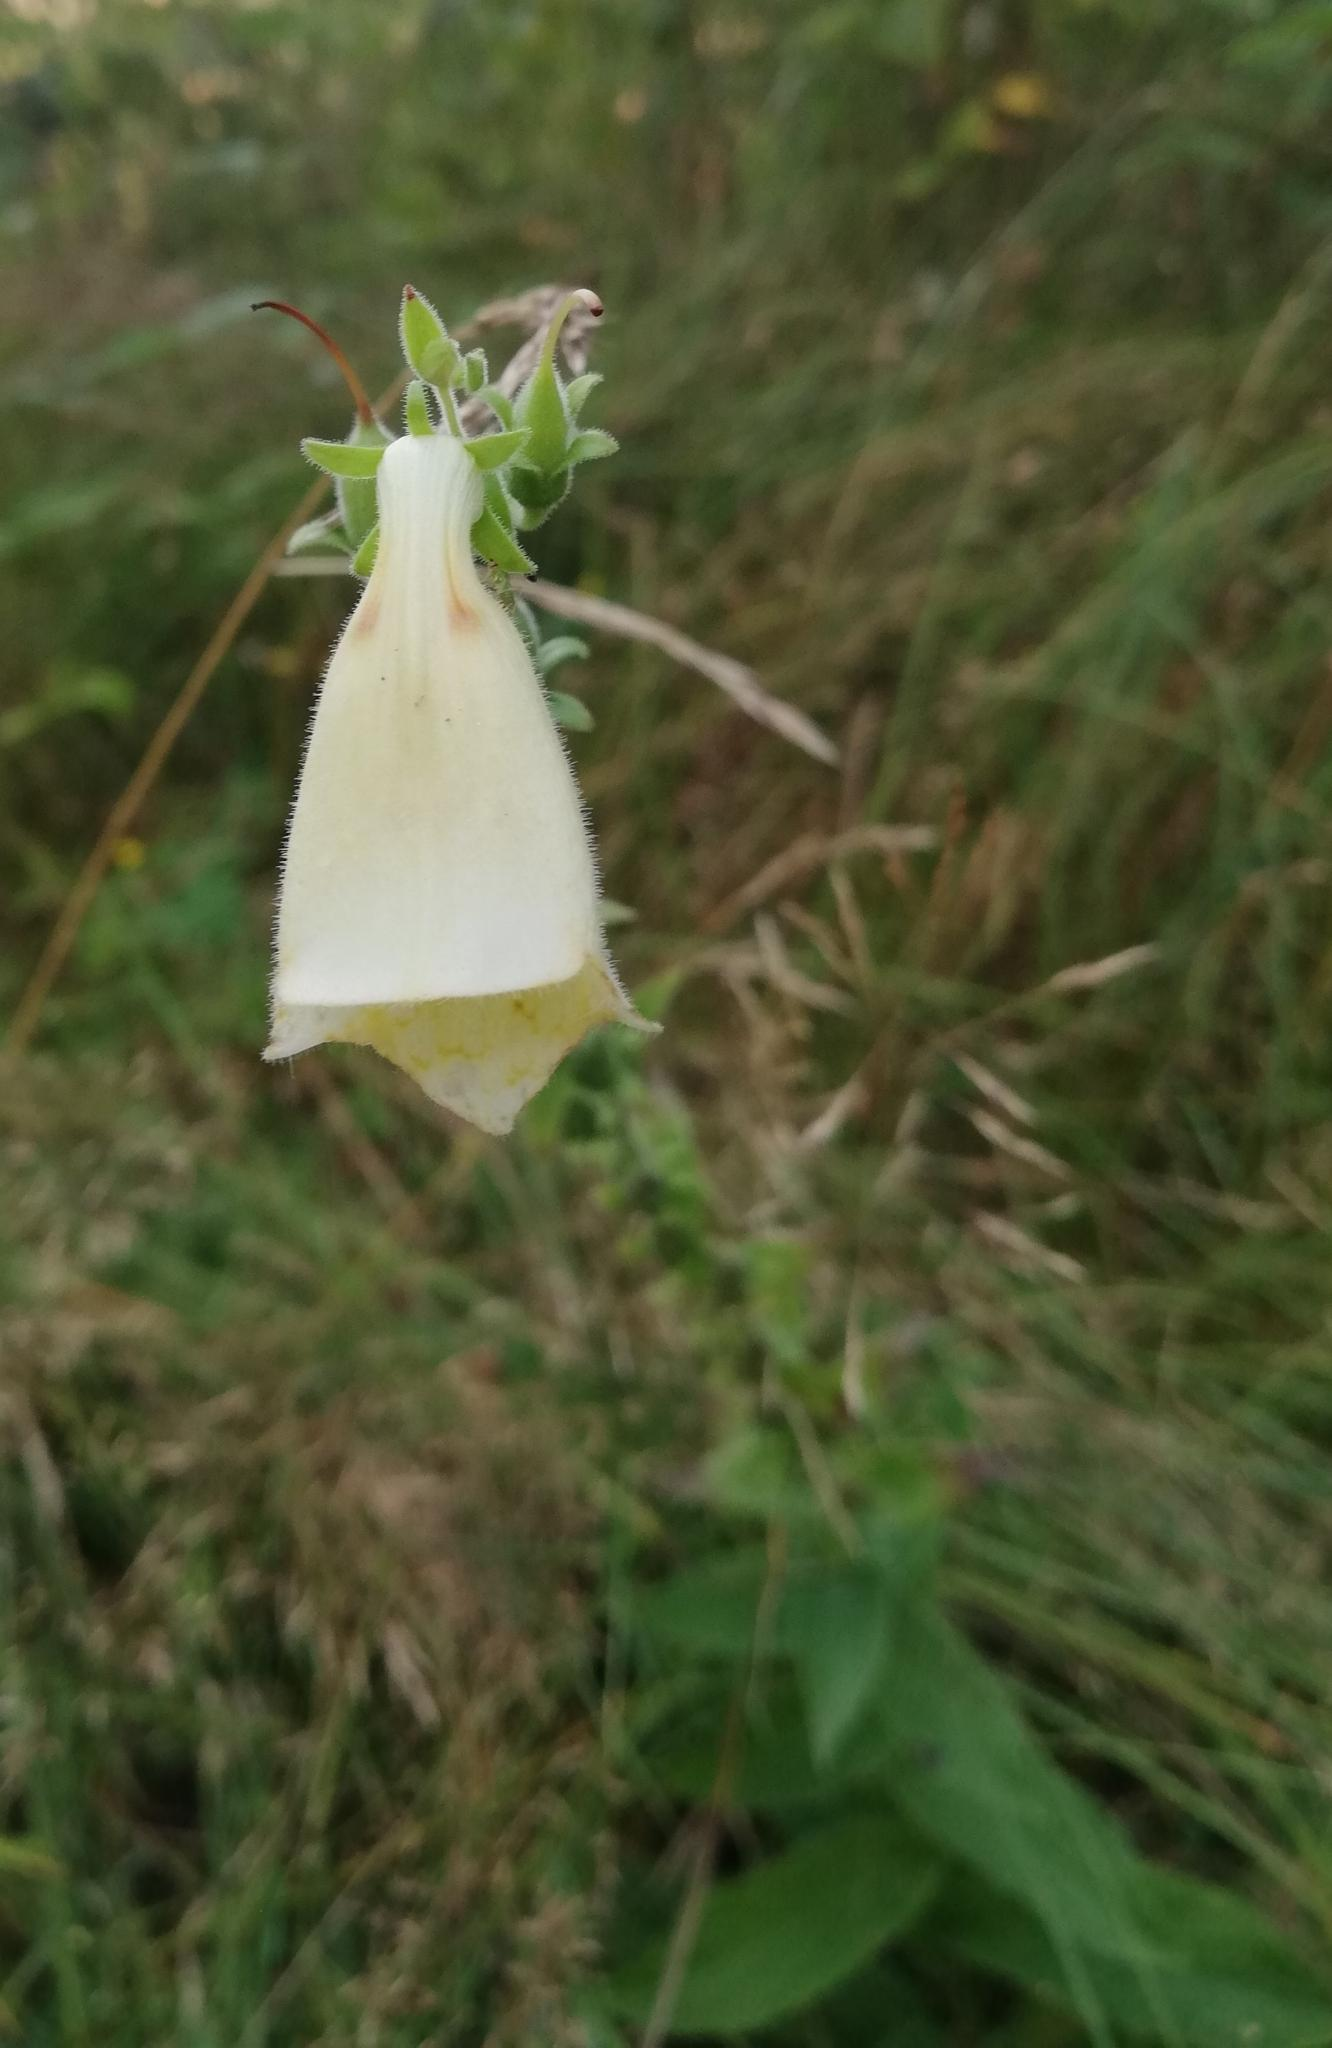Digitalis L: (178, 237, 708, 1158)
